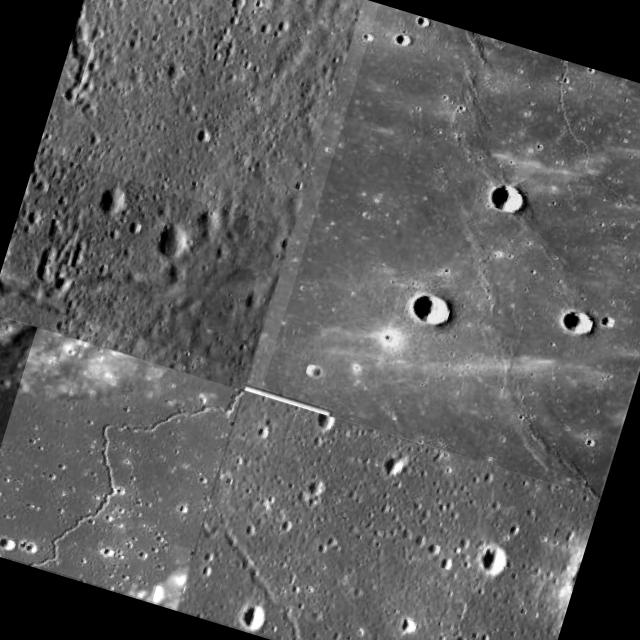rille: (260, 4, 640, 497), (177, 390, 508, 640), (0, 327, 242, 608), (0, 151, 291, 371), (0, 312, 75, 557)
